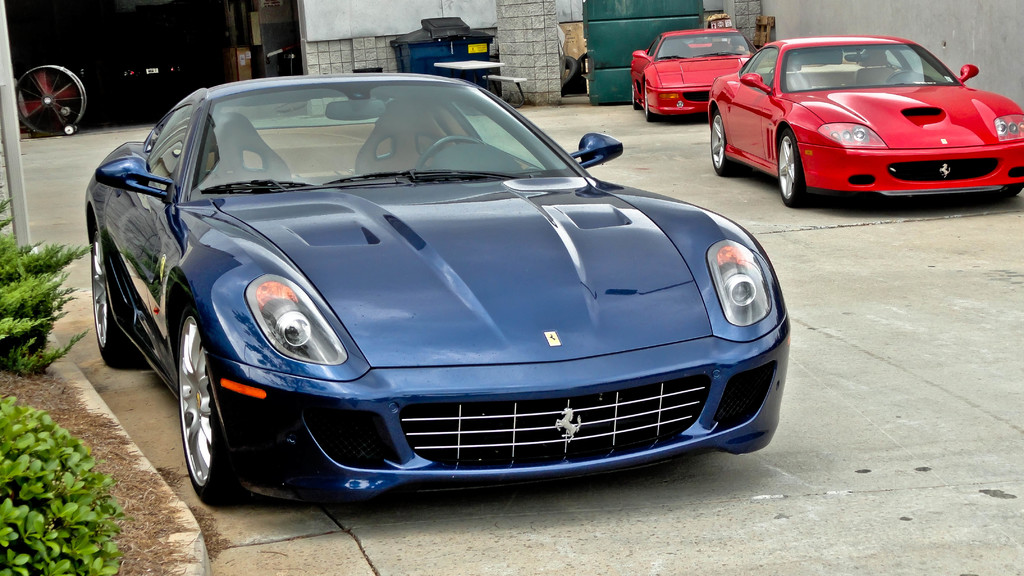mobil: (72, 67, 799, 508)
